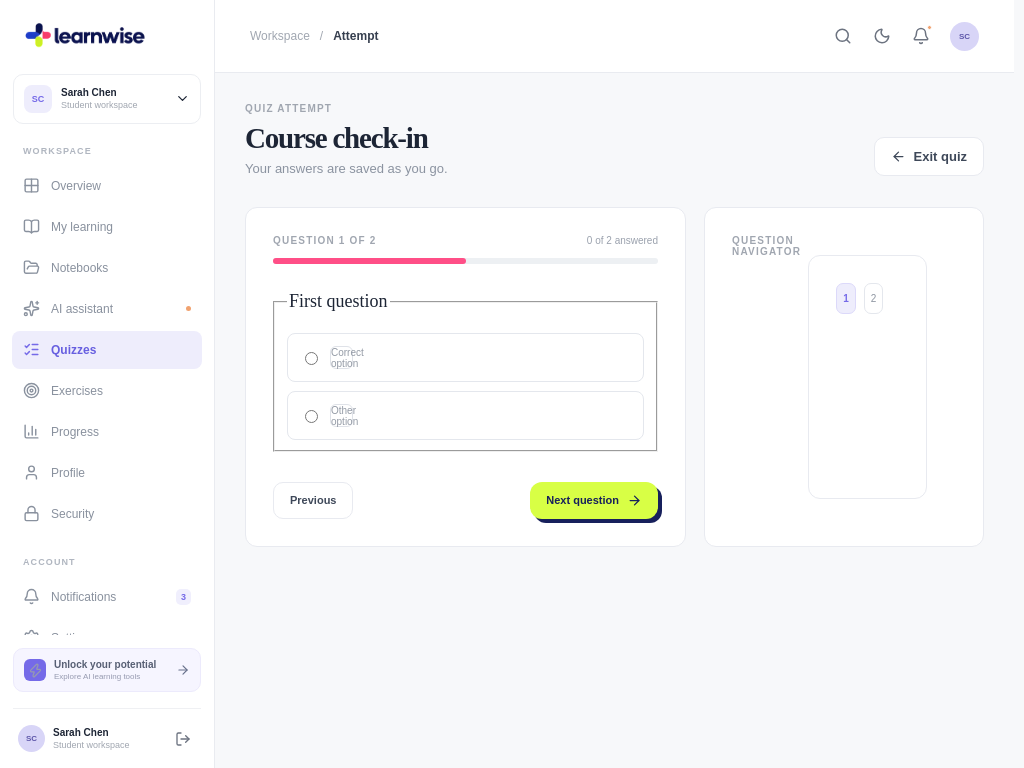
backend assessment attempt › with the real backend answer map (every question present, null when unanswered) › does not count unanswered questions (null) as answered, and does not autosave an empty attempt
Expected: the text "0 of 2 answered" is shown, [587,235,658,246]
Click the radio button labelled "Correct option": x=312, y=359 [305,352,318,365]
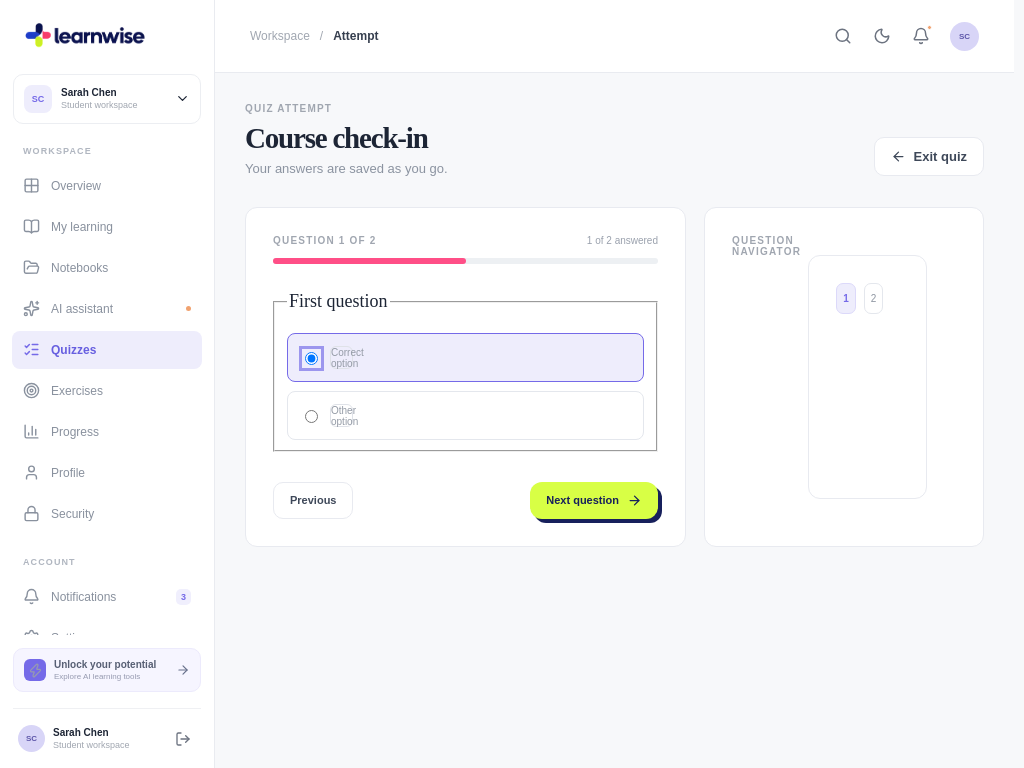
Expected: the text "1 of 2 answered" is shown, [587,235,658,246]
